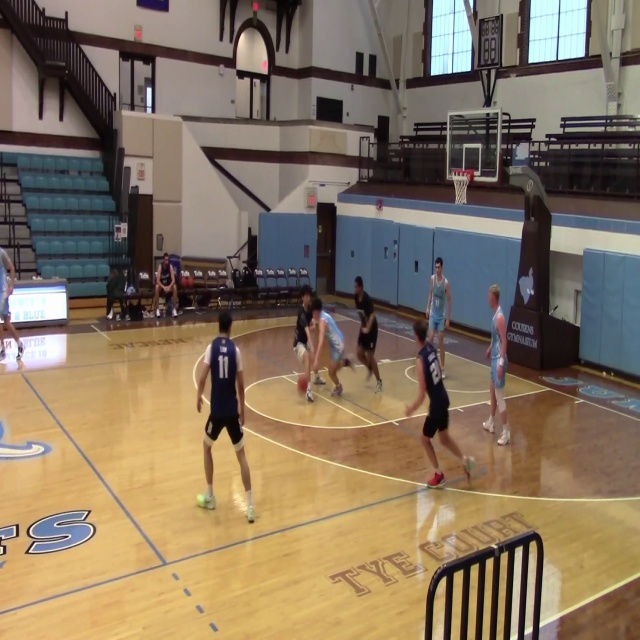Basketball: (297, 374, 308, 394), (196, 494, 205, 507)
